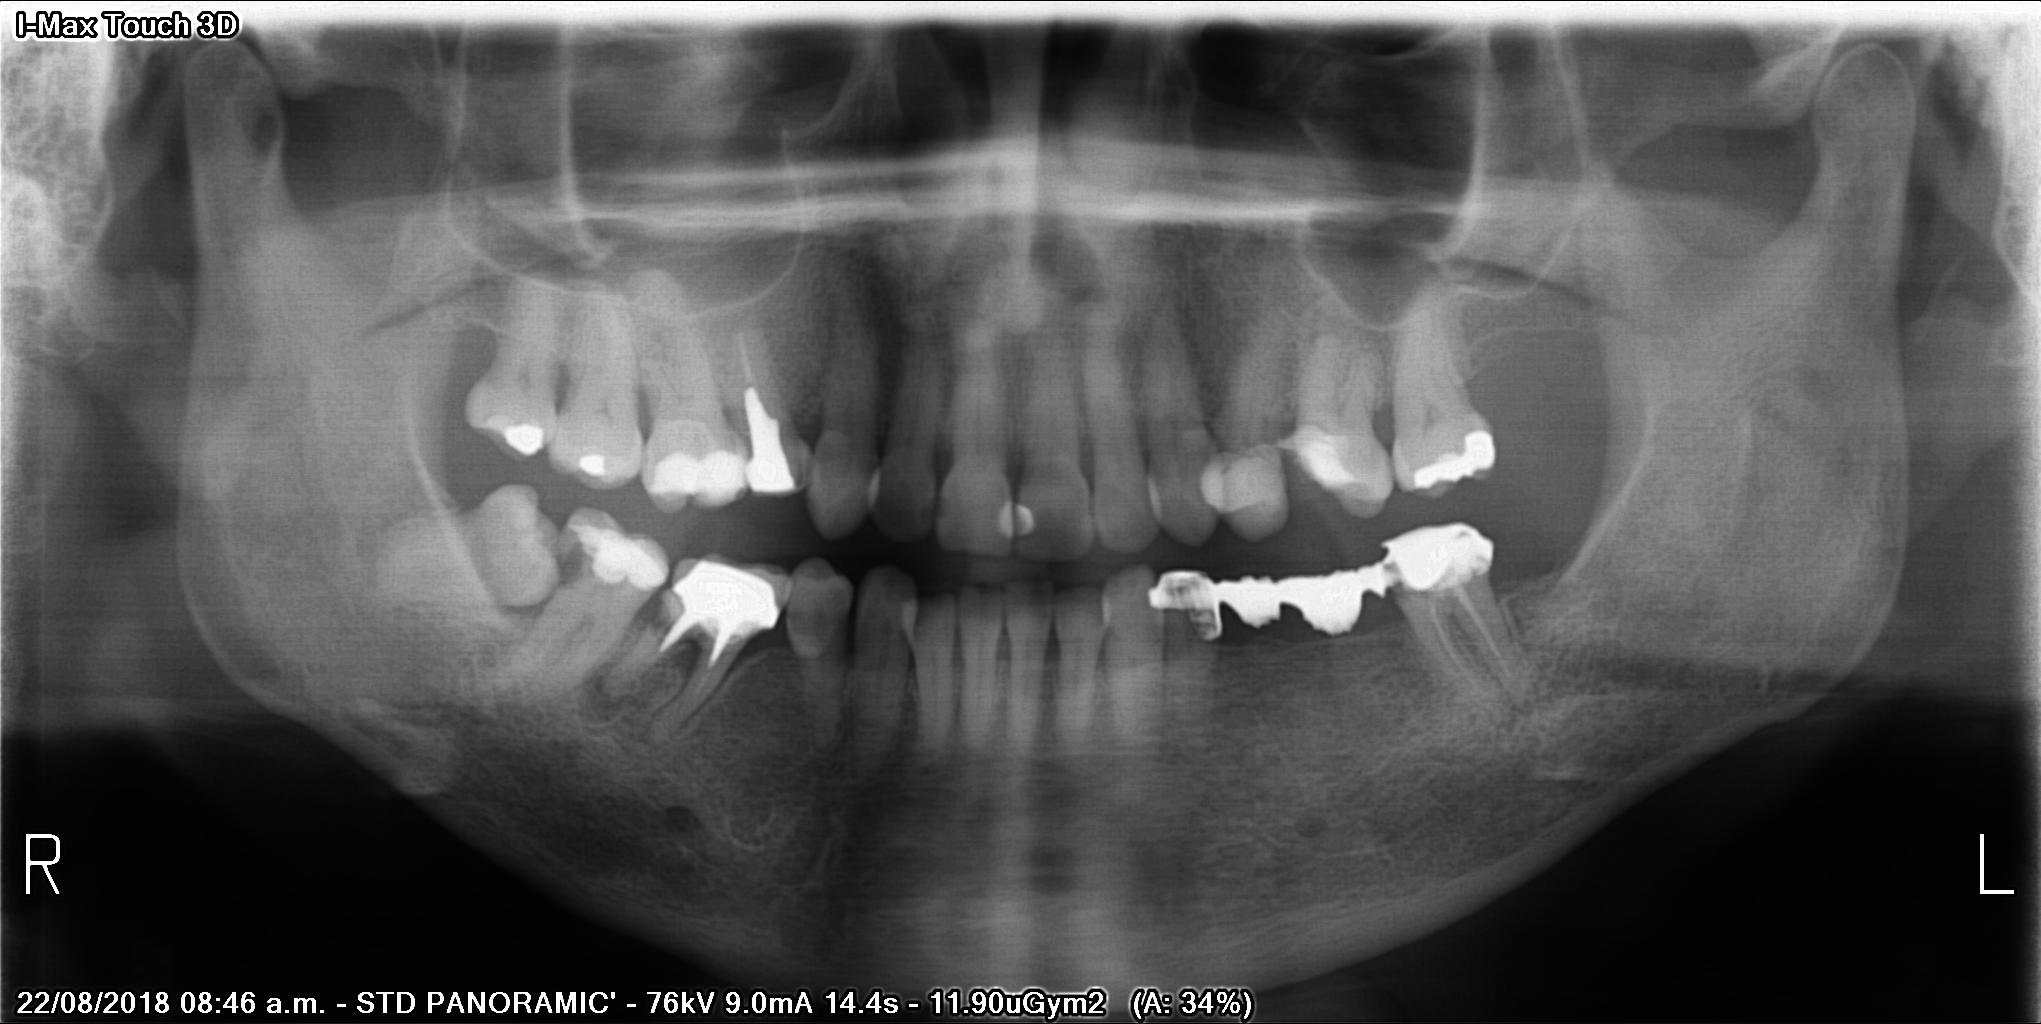Çürük: (666, 555, 793, 654), (1379, 521, 1494, 596), (1150, 569, 1243, 650), (1396, 424, 1512, 488), (734, 388, 803, 495), (648, 445, 748, 512), (564, 522, 659, 586), (495, 414, 548, 464), (576, 444, 615, 478), (998, 504, 1033, 537)
Çürük Bölgesi: (546, 542, 605, 596), (925, 492, 948, 522)
